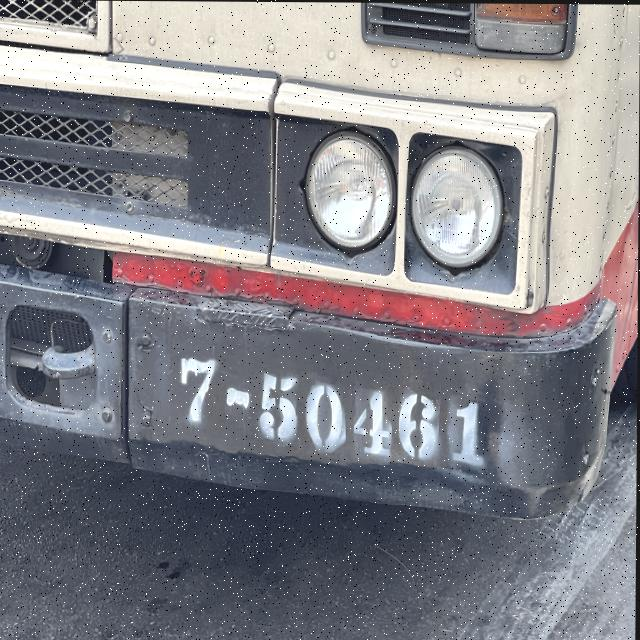BMTA-bus: (0, 0, 640, 526)
